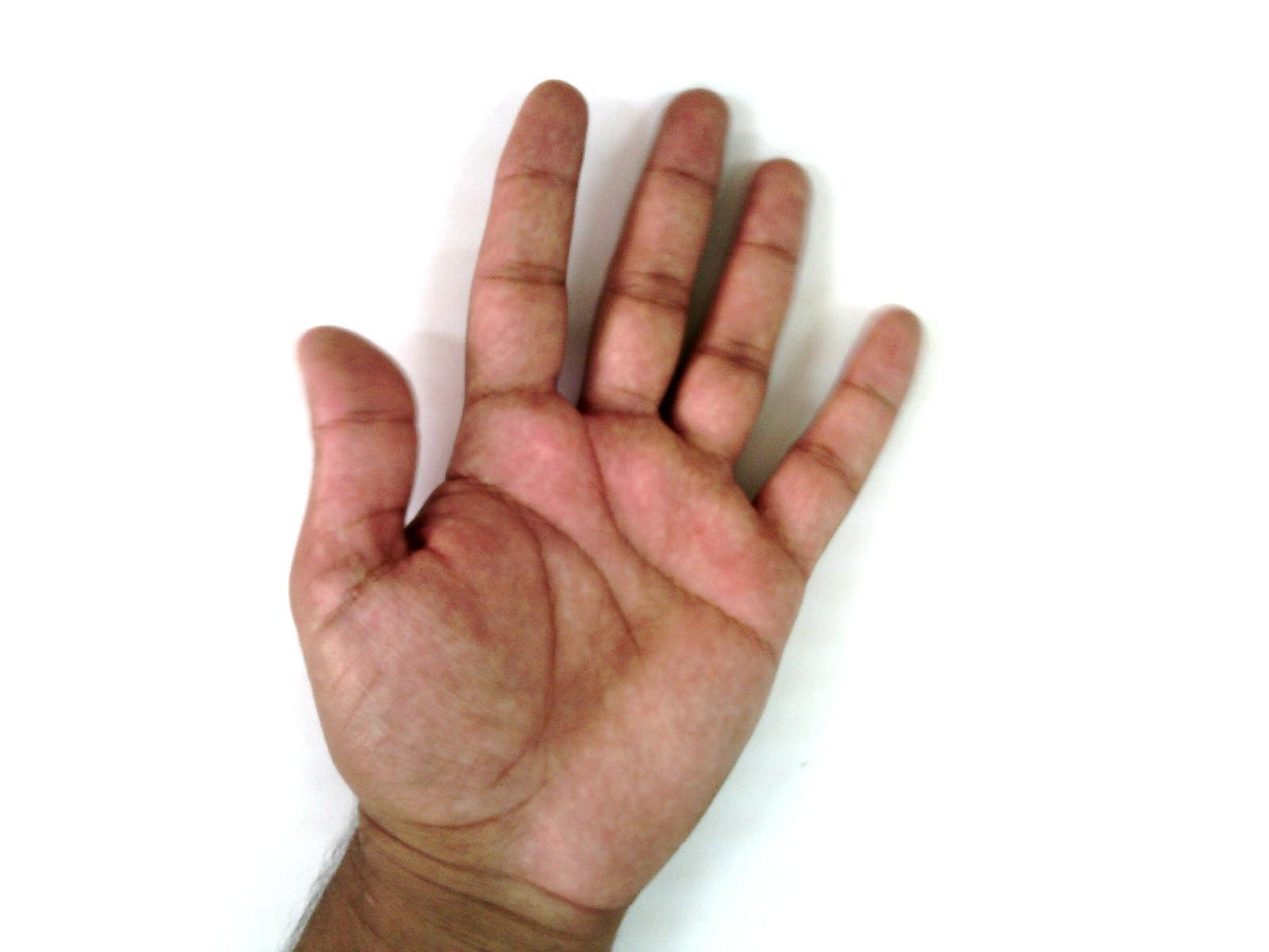open_palm: (285, 79, 926, 924)
